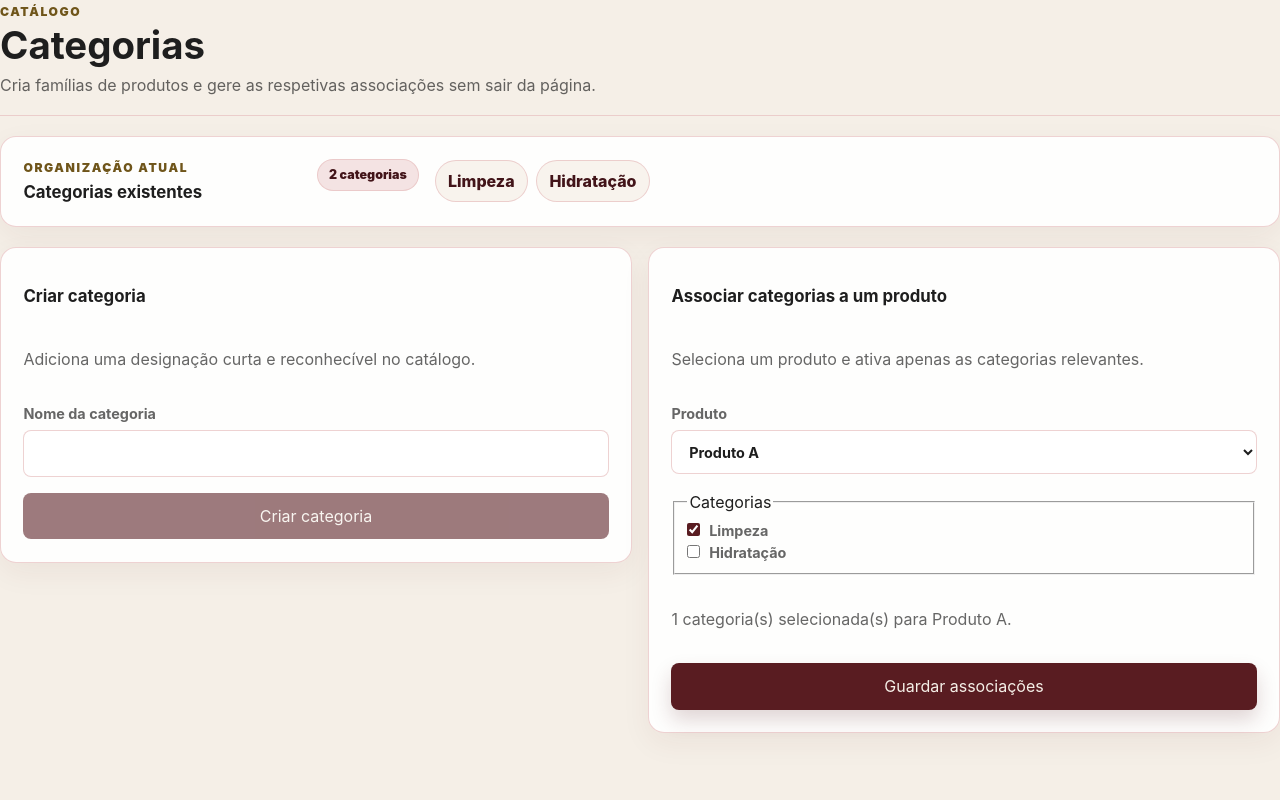
Test: AdminCategoriesPage › mantém uma categoria criada quando apenas o refresh posterior falha
Type "Nova categoria" into the field labelled "Nome da categoria" at (316, 454), box [23, 430, 609, 477]
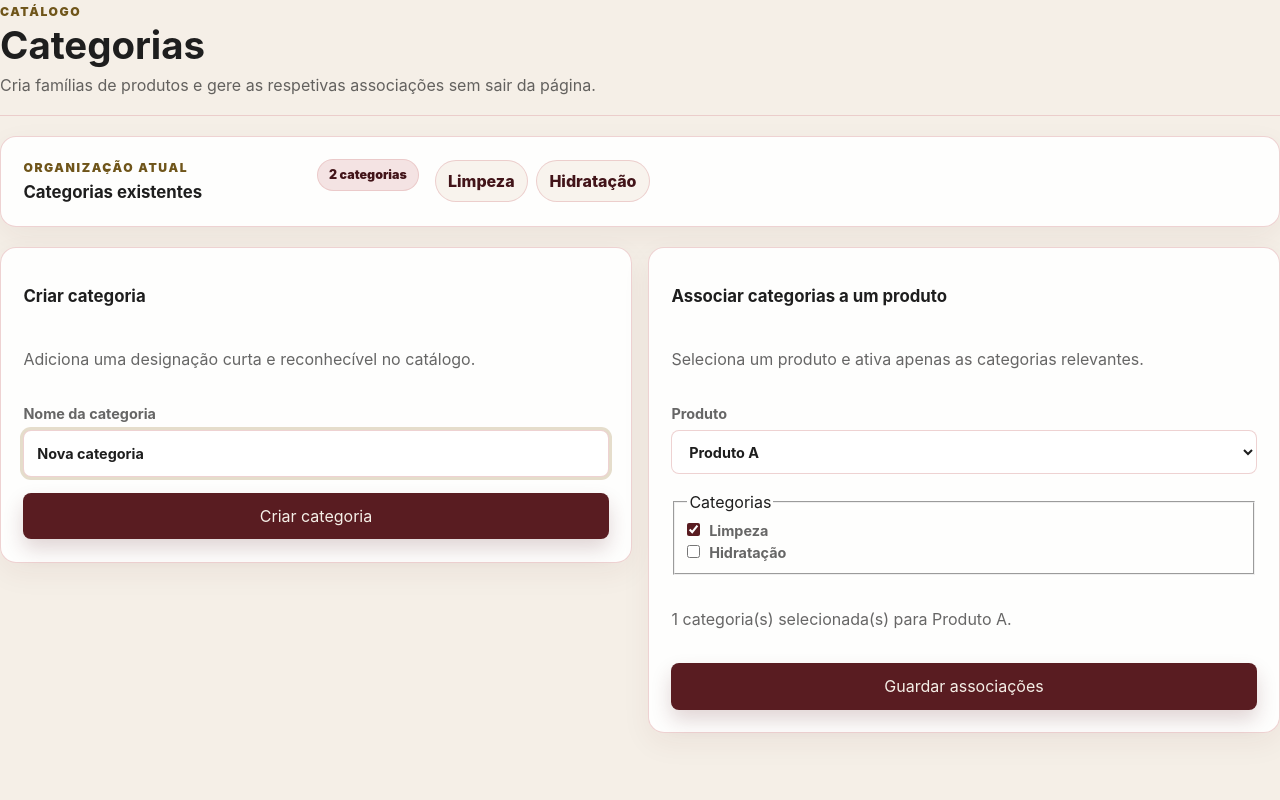
Click the button "Criar categoria" at (316, 516), box [23, 493, 609, 539]
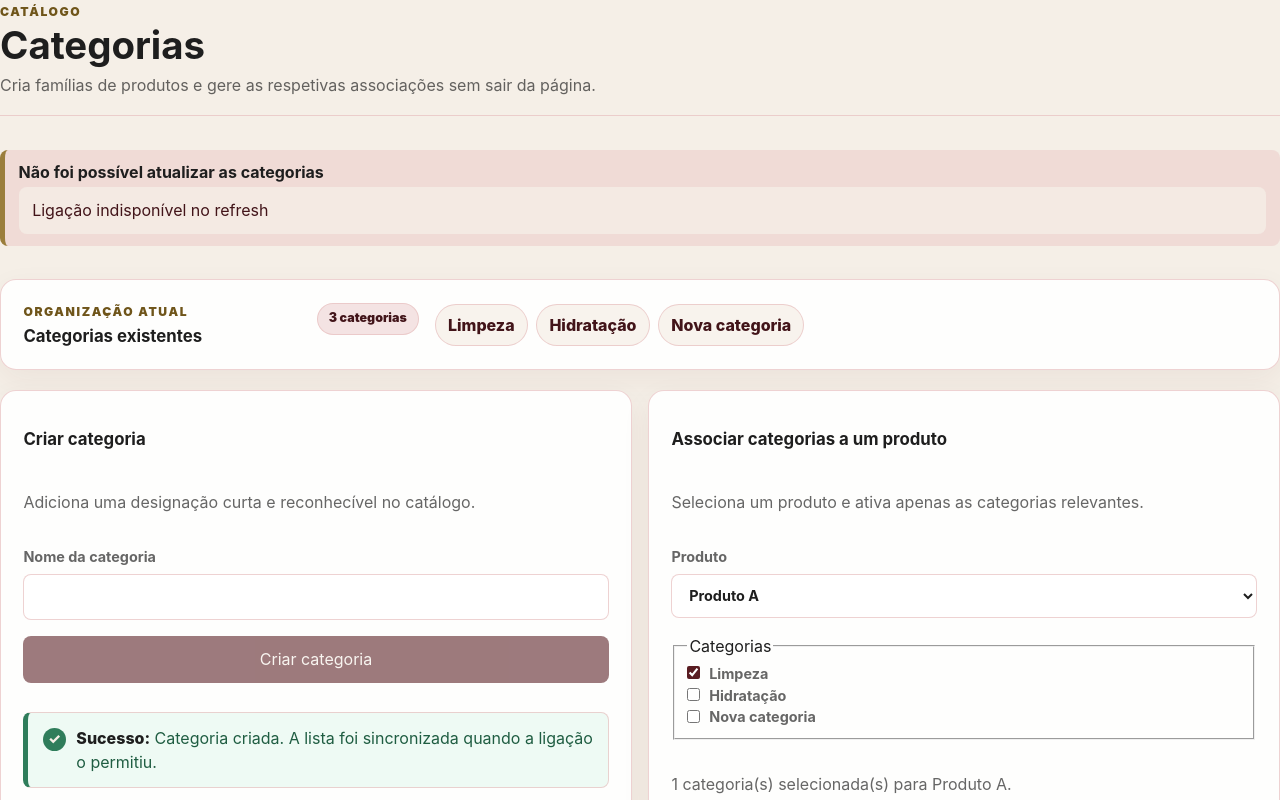
expect the list item "Nova categoria" is shown: met, box [658, 304, 804, 346]
expect the message "Não foi possível atualizar as categorias Ligação indisponível no refresh" is shown: met, box [0, 150, 1279, 246]
expect the message that starts with "Sucesso" shows "Categoria criada": met, box [76, 728, 593, 772]
